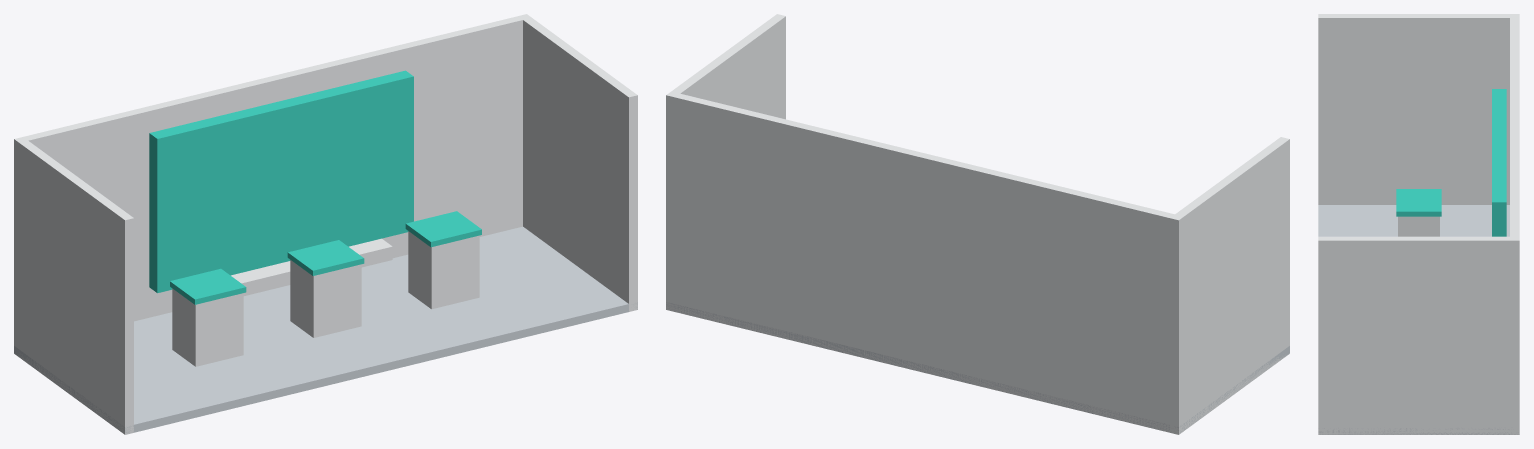
3 renders of one model, left to right at view 1: azimuth 30°, elevation 25°; view 2: azimuth 150°, elevation 25°; view 3: azimuth 270°, elevation 25°, orthographic. The views are drawn at different scales.
Visible parts, largest first — view 1: Exhibition Booth Concept; view 2: Exhibition Booth Concept; view 3: Exhibition Booth Concept.
Boxes of the visible parts, x1,y1,x2,y2 form: Exhibition Booth Concept: (14, 14, 637, 434); Exhibition Booth Concept: (666, 14, 1289, 434); Exhibition Booth Concept: (1318, 14, 1519, 434).
Bounding box in the file's own units: 8 × 3.2 × 3.
